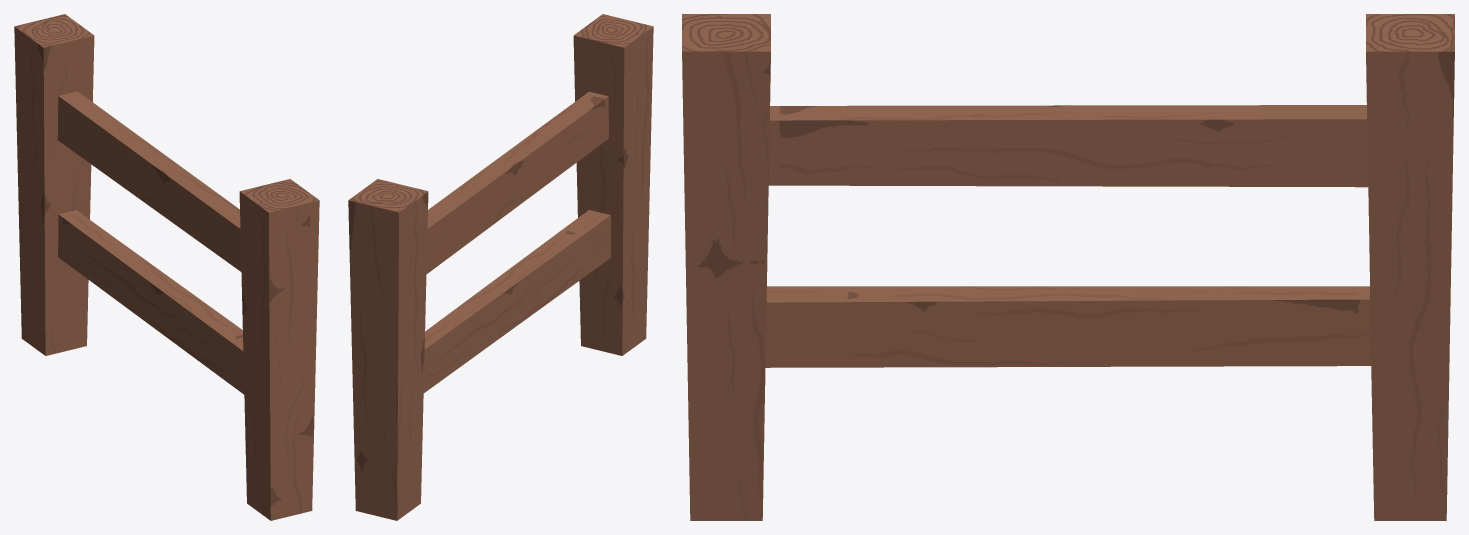
The model's file is fixd-fence-full.fbx.
3 renders of one model, left to right at view 1: azimuth 30°, elevation 25°; view 2: azimuth 150°, elevation 25°; view 3: azimuth 270°, elevation 25°, orthographic. The views are drawn at different scales.
Visible parts, largest first — view 1: Cube; view 2: Cube; view 3: Cube.
Boxes of the visible parts, x1,y1,x2,y2 form: Cube: [14, 14, 319, 520]; Cube: [348, 14, 653, 520]; Cube: [682, 14, 1454, 520].
Bounding box in the file's own units: 70.42 × 413 × 611.
